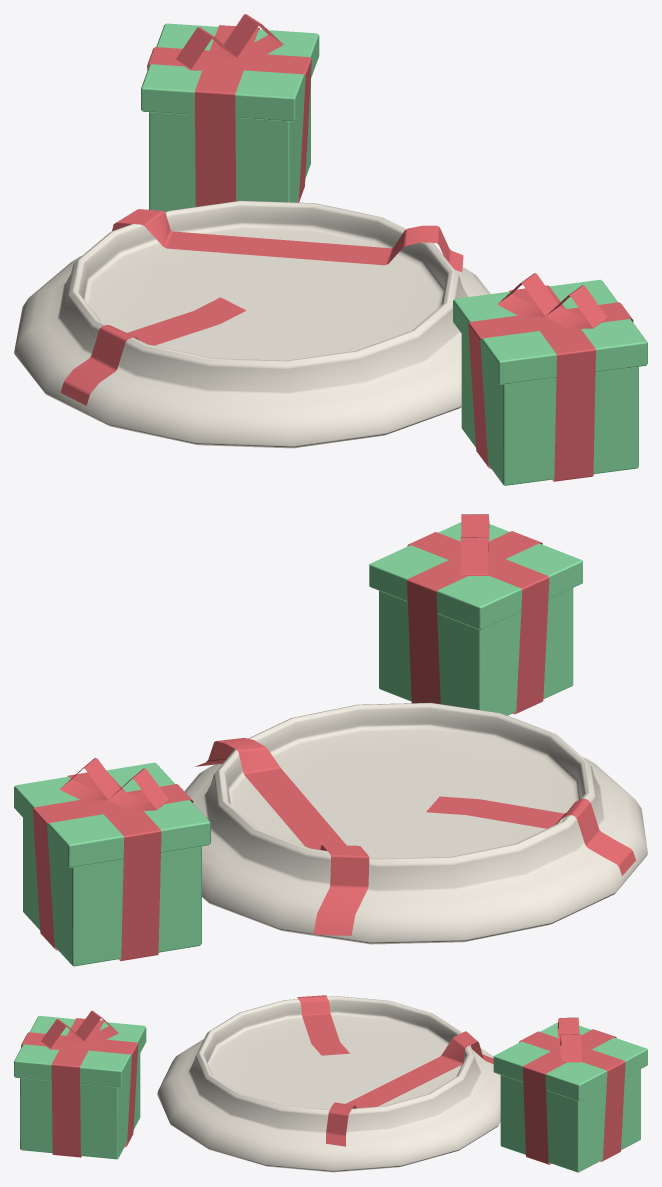
Rendered from gift_Platform002.fbx.
The picture shows the model from 3 angles, top to bottom: view 1: azimuth 30°, elevation 25°; view 2: azimuth 150°, elevation 25°; view 3: azimuth 270°, elevation 25°; orthographic projection. The views are drawn at different scales.
Visible parts, largest first — view 1: Box.001; view 2: Box.001; view 3: Box.001.
Part boxes in pixels (x1,y1,x2,y2): Box.001: (14, 14, 647, 485); Box.001: (14, 514, 647, 966); Box.001: (14, 995, 647, 1172).
Size of the model in its own units: 232 by 83.95 by 404.
